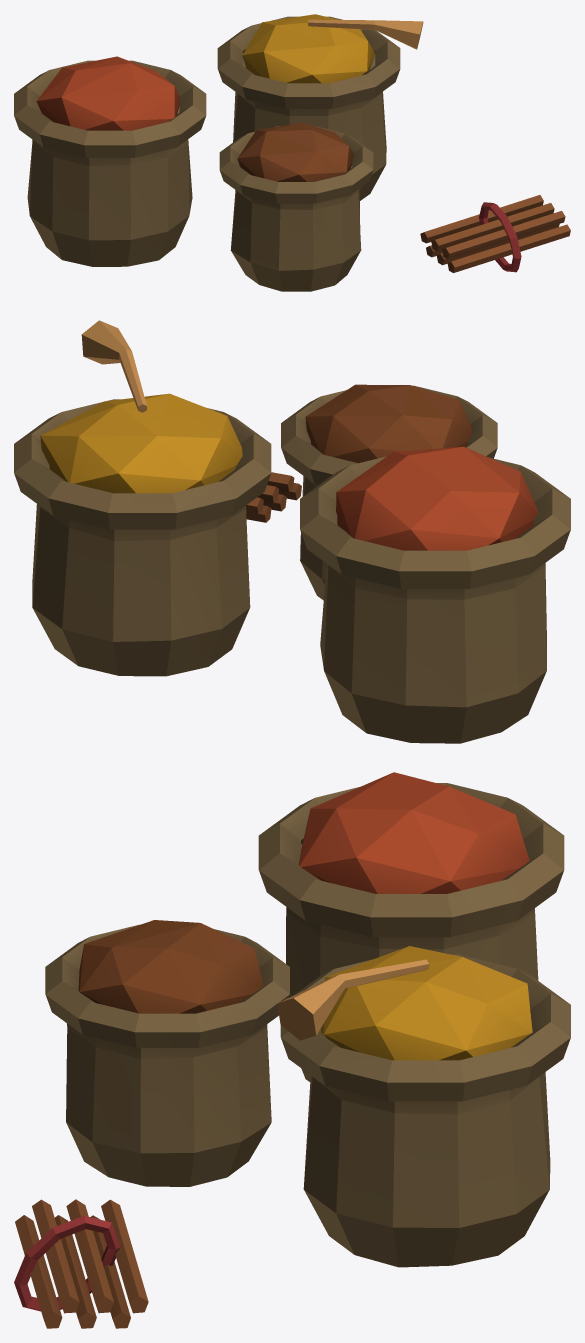
The picture shows the model from 3 angles, top to bottom: view 1: azimuth 30°, elevation 25°; view 2: azimuth 150°, elevation 25°; view 3: azimuth 270°, elevation 25°; orthographic projection. The views are drawn at different scales.
Parts seen in each view (by area): view 1: base; view 2: base; view 3: base.
Boxes of the visible parts, left/top/right/bottom form: base: left=14, top=14, right=570, bottom=291; base: left=14, top=320, right=570, bottom=743; base: left=14, top=772, right=570, bottom=1328.
Size of the model in its own units: 0.5473 by 0.2389 by 0.3883.
